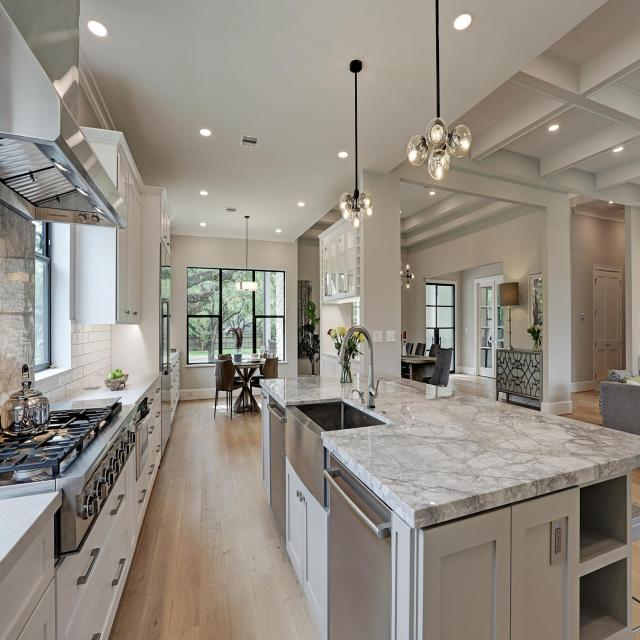dishwasher: (324, 440, 399, 640), (265, 390, 291, 547)
